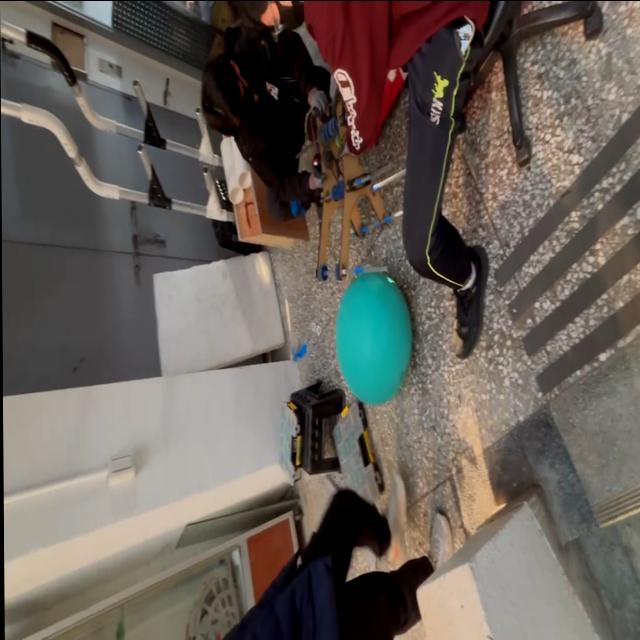ALGAE: (333, 270, 414, 408)
